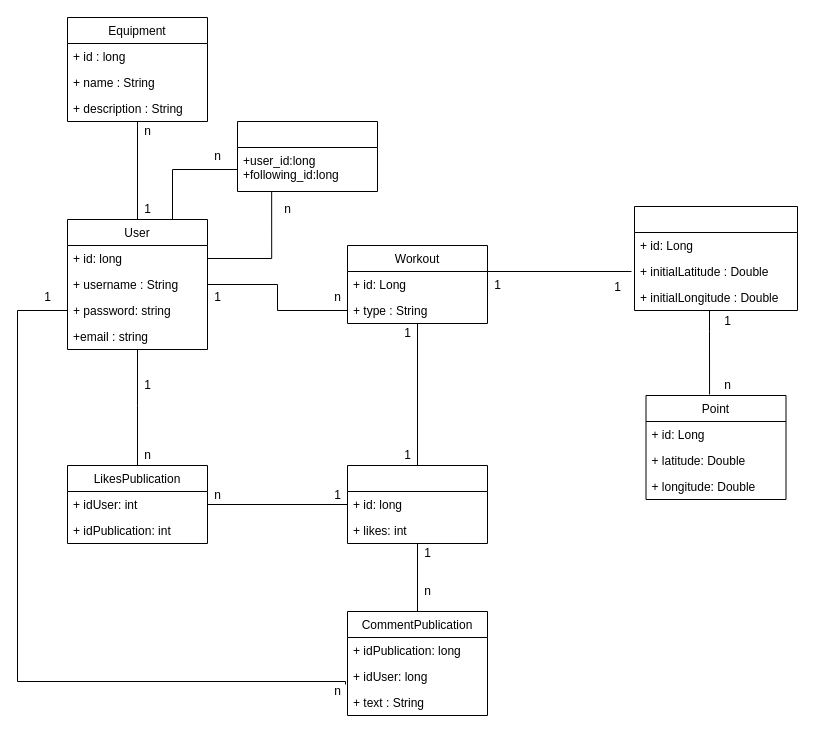
This 815x736 diagram has some shape labels left out. Here are the shapes that lost their labels. From the top down, the box of each, then its label:
(236, 120, 378, 192): Relation
(634, 206, 798, 310): Route
(346, 464, 488, 544): Publication
